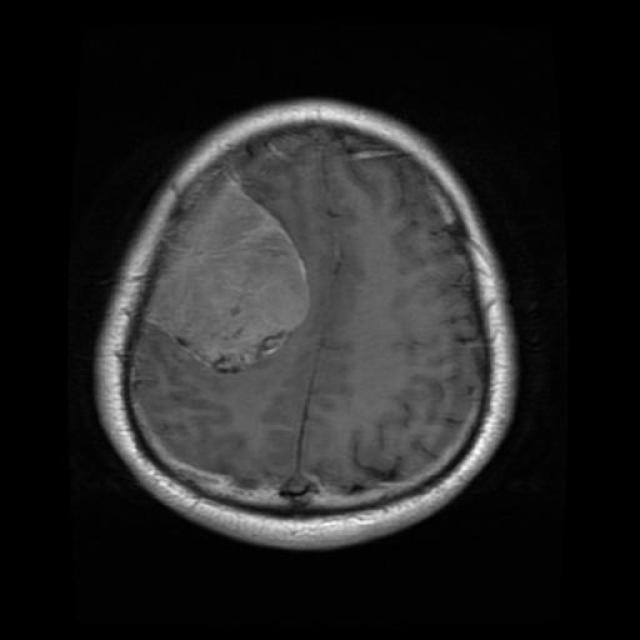Meningioma: (146, 180, 309, 371)
